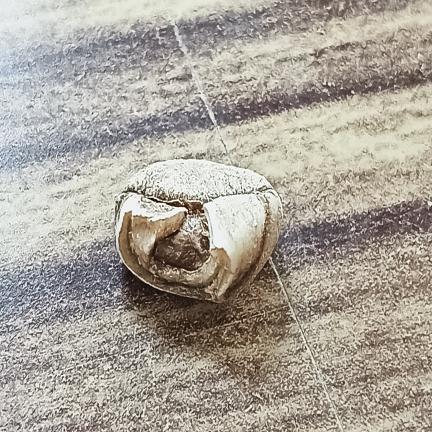cut: (115, 160, 282, 302)
